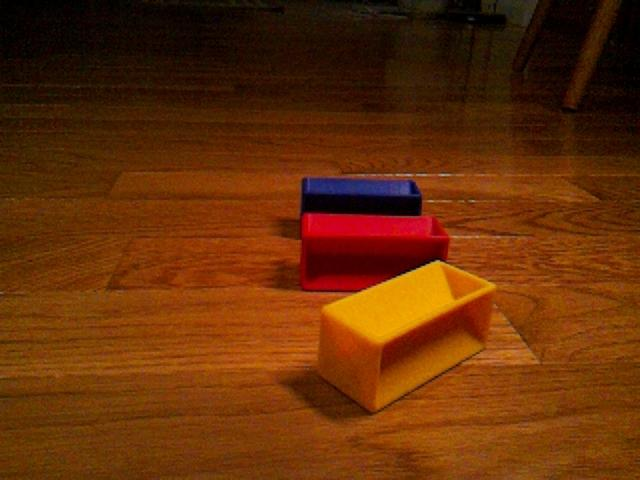blue: (299, 175, 424, 216)
red: (299, 211, 451, 292)
yellow: (316, 258, 498, 414)
